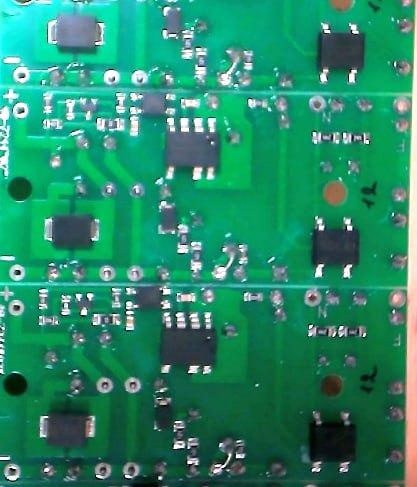chip-capacitor: (179, 96, 201, 109), (128, 115, 140, 138), (175, 291, 197, 303), (125, 310, 135, 332)
chip-resistor: (91, 311, 121, 328), (307, 322, 337, 339), (310, 129, 341, 145), (171, 419, 187, 450), (95, 116, 125, 132), (342, 130, 372, 146), (338, 324, 368, 340), (186, 436, 201, 468), (176, 223, 190, 255), (194, 46, 209, 75), (189, 241, 203, 270), (181, 29, 194, 60), (242, 48, 256, 71), (37, 313, 60, 327), (109, 286, 123, 309), (114, 90, 127, 114), (60, 292, 72, 317), (41, 91, 54, 114), (246, 97, 269, 110), (41, 118, 63, 131), (234, 438, 247, 460), (37, 287, 49, 310), (242, 291, 264, 303), (64, 98, 75, 121), (238, 243, 249, 265)
diode: (38, 410, 97, 448), (45, 14, 106, 50), (43, 213, 101, 249), (156, 200, 178, 236), (161, 4, 182, 40), (152, 396, 173, 432)
ic: (158, 308, 218, 377), (163, 116, 221, 183), (315, 19, 367, 86), (310, 215, 362, 281), (308, 410, 357, 475), (128, 91, 177, 117), (124, 285, 172, 311)
transistor: (73, 291, 95, 317), (78, 94, 98, 121)
